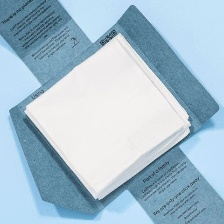tissue: (17, 27, 196, 205)
